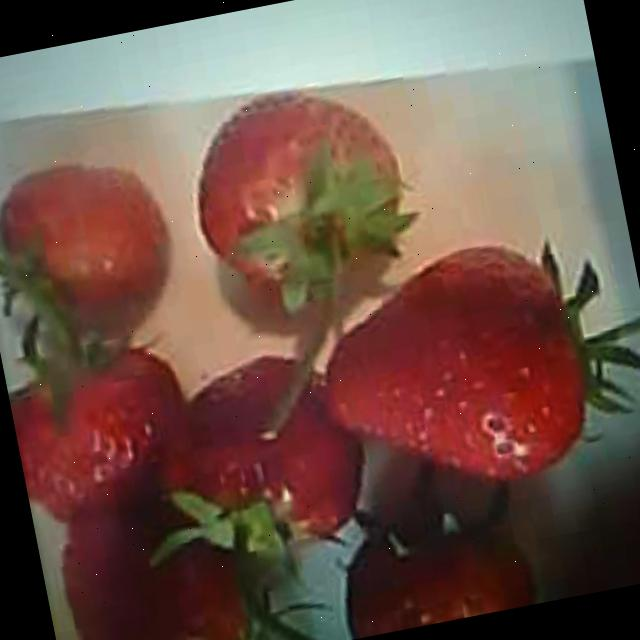strawberry: (303, 230, 605, 510)
